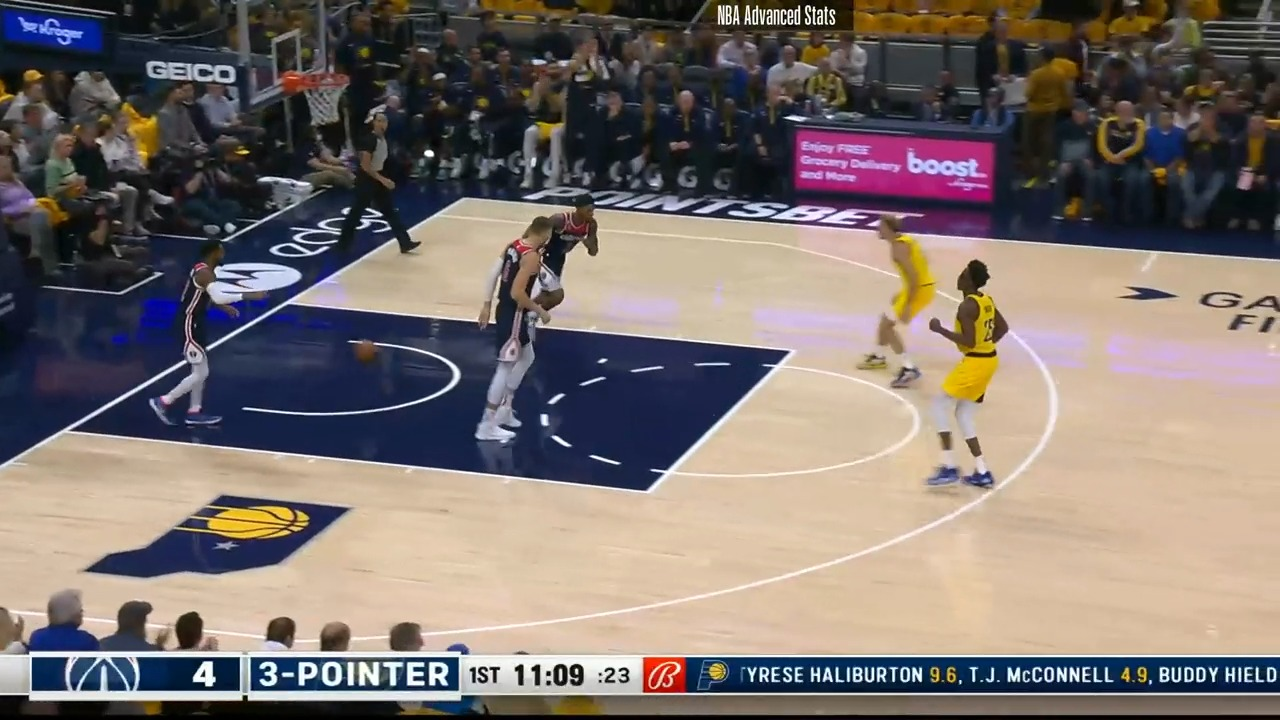net: (283, 65, 353, 127)
player: (918, 259, 1017, 500), (471, 214, 568, 452), (857, 211, 952, 393), (153, 235, 236, 433), (528, 194, 604, 328)
referee: (345, 110, 426, 262)
